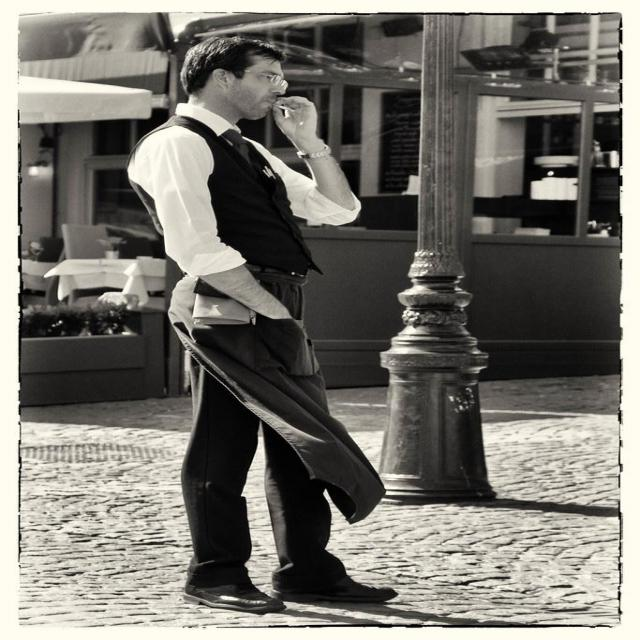Сигарета: (272, 101, 295, 113)
Тело: (130, 36, 400, 614)
